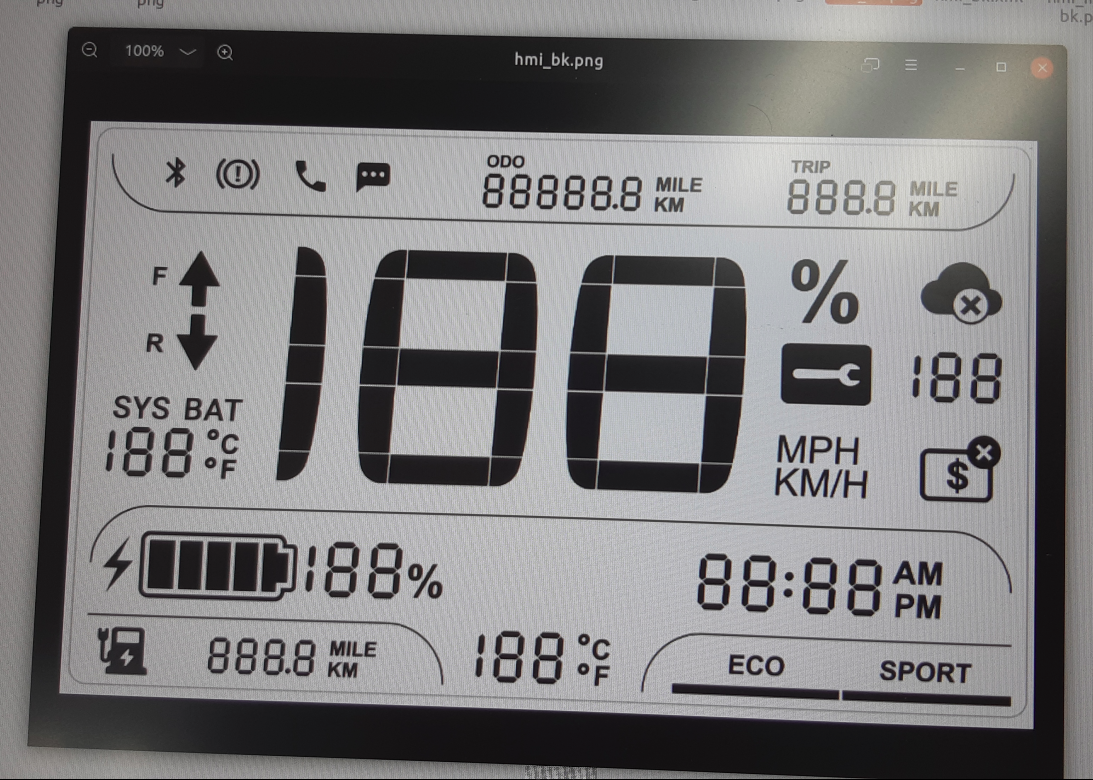bluetooth_on: (159, 151, 193, 193)
braking_on: (210, 154, 263, 193)
calling_on: (291, 156, 331, 196)
connection_lost: (917, 258, 1006, 328)
error_code: (774, 338, 876, 410)
low_battery: (92, 621, 153, 681)
sms_on: (351, 158, 394, 197)
vin_id: (914, 432, 1006, 507)
